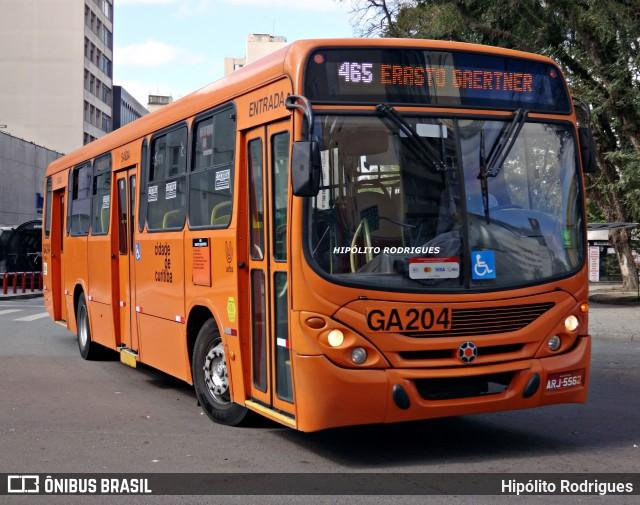ERASTO GAERTNER: (377, 62, 536, 96)
